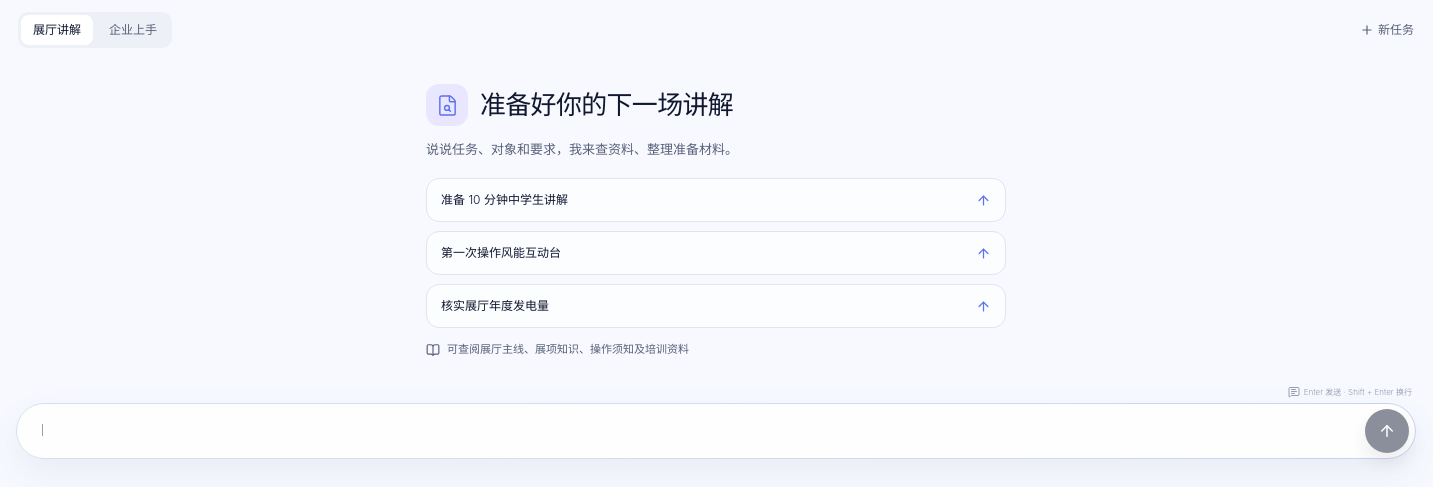
Test: task preparation › recovers a persisted completed result after a stream interruption
Click the button "准备 10 分钟中学生讲解" at (504, 200), box [426,178,1006,222]
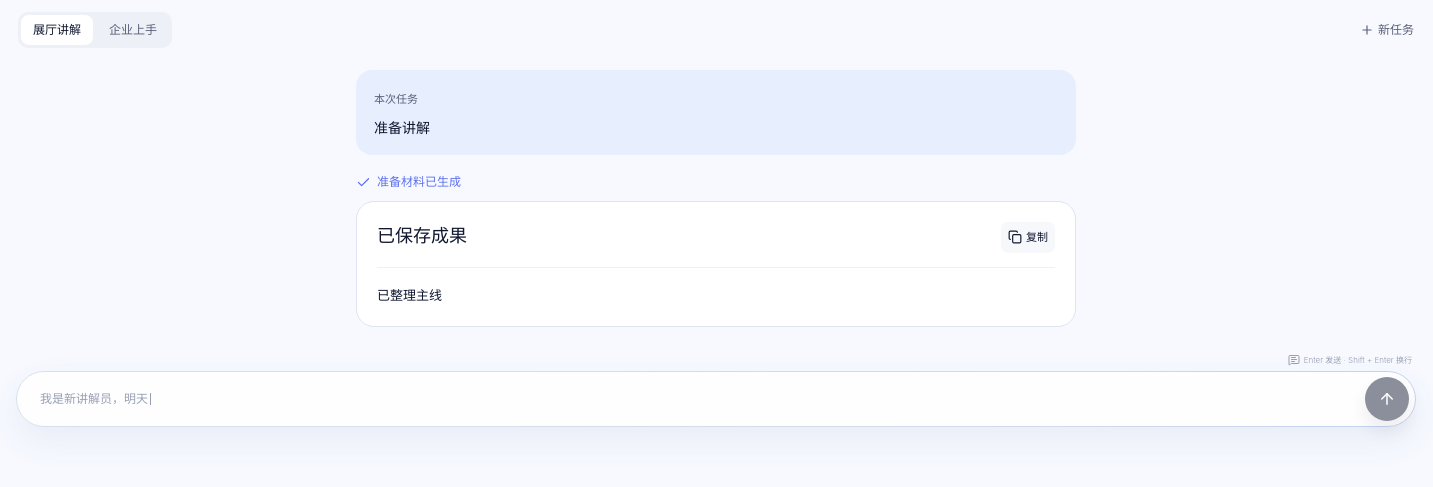
Expected: the text box is empty, [16,371,1416,427]
Expected: the heading "已保存成果" is shown, [377,222,467,249]
